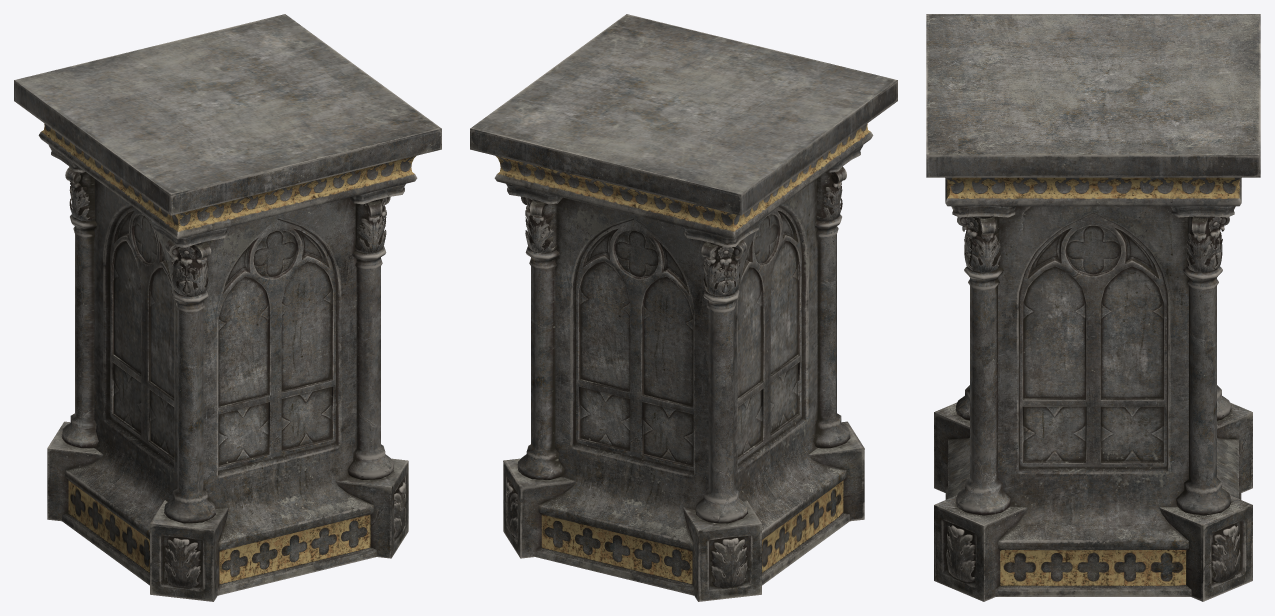
Rendered from SM_Pedestal_01a.fbx.
3 renders of one model, left to right at view 1: azimuth 30°, elevation 25°; view 2: azimuth 150°, elevation 25°; view 3: azimuth 270°, elevation 25°, orthographic. The views are drawn at different scales.
Parts seen in each view (by area): view 1: SM_Pedestal_01a; view 2: SM_Pedestal_01a; view 3: SM_Pedestal_01a.
Part boxes in pixels (bbox=[...]): SM_Pedestal_01a: bbox=[14, 14, 441, 601]; SM_Pedestal_01a: bbox=[470, 14, 897, 601]; SM_Pedestal_01a: bbox=[926, 14, 1260, 601].
Size of the model in its own units: 107 by 159 by 107.
Materials: 1 (1 with a texture image).
